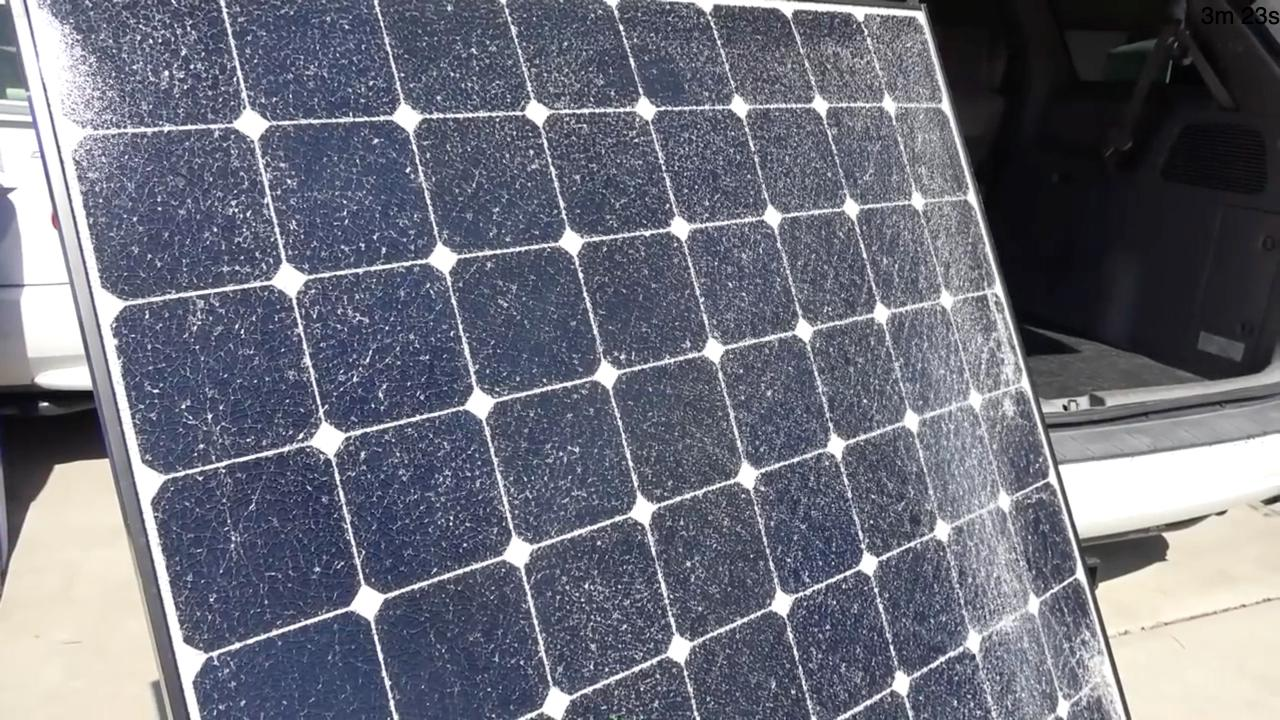Crack: (1037, 603, 1127, 720), (960, 293, 1037, 418)
